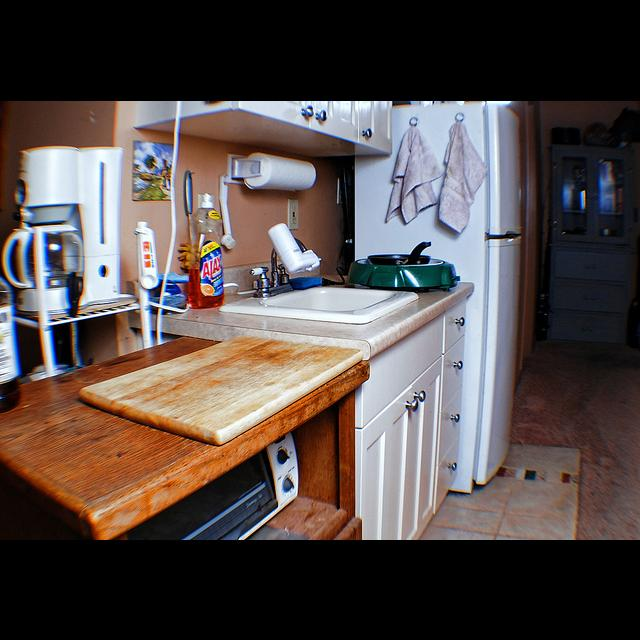Refrigerator: (353, 101, 525, 495)
